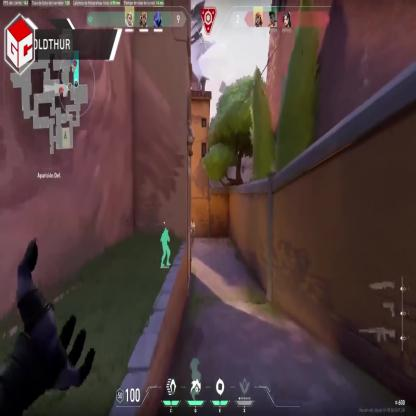enemy: (189, 218, 196, 250)
enemy_head: (191, 219, 194, 224)
